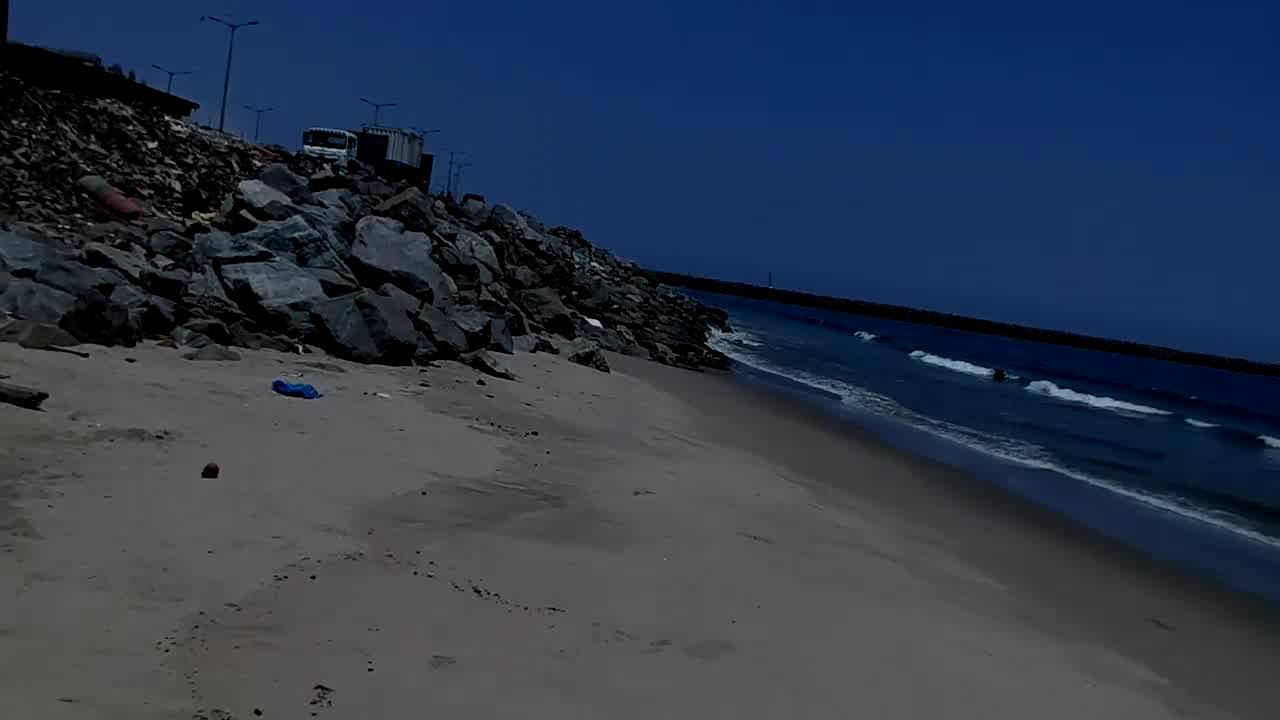large collection of objects: (202, 462, 218, 479)
obj: (3, 382, 52, 410), (272, 378, 316, 399)
sand/background: (0, 0, 1279, 629)
